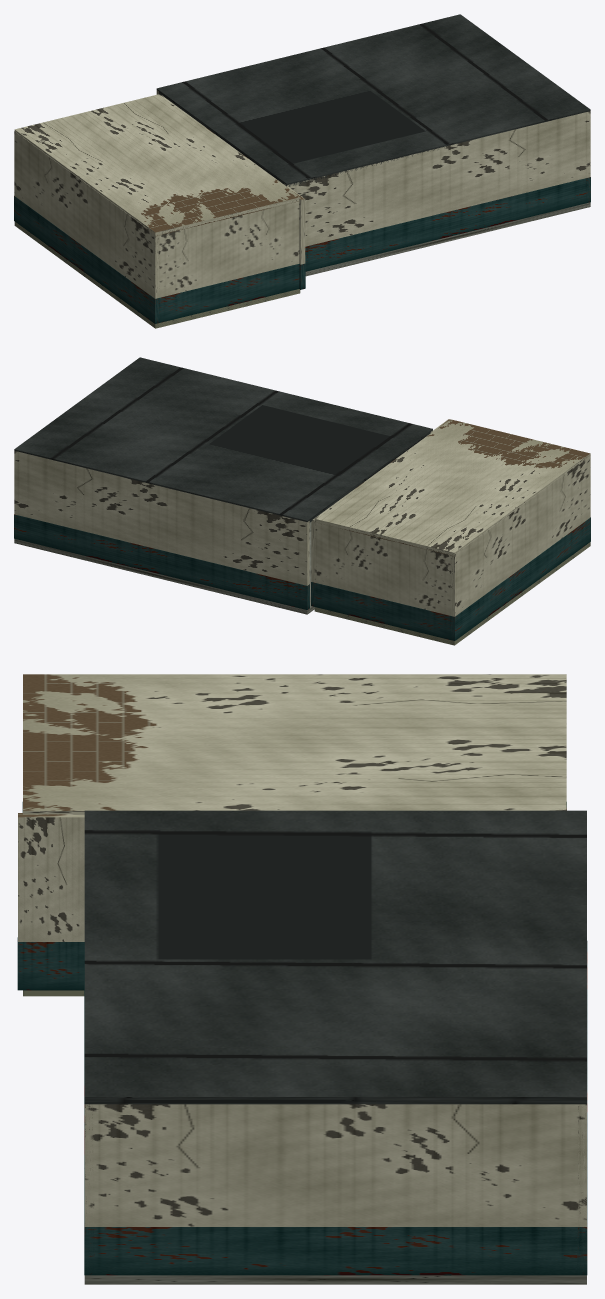
File: gas_station_interior.glb
3 views of the same model, one above another, from view 1: azimuth 30°, elevation 25°; view 2: azimuth 150°, elevation 25°; view 3: azimuth 270°, elevation 25° (orthographic). The views are drawn at different scales.
Visible parts, largest first — view 1: Ceiling, Walls, Floor; view 2: Ceiling, Walls, Floor; view 3: Ceiling, Walls, Floor.
Boxes of the visible parts, left/top/right/bottom form: Ceiling: left=14, top=14, right=590, bottom=236; Walls: left=14, top=90, right=590, bottom=323; Floor: left=14, top=202, right=590, bottom=328; Ceiling: left=14, top=357, right=590, bottom=556; Walls: left=14, top=419, right=590, bottom=640; Floor: left=14, top=522, right=590, bottom=645; Ceiling: left=23, top=674, right=586, bottom=1104; Walls: left=17, top=802, right=587, bottom=1275; Floor: left=23, top=990, right=586, bottom=1284.
Size of the model in its own units: 19.62 by 4.04 by 11.12.
Materials: 2 (1 with a texture image).
